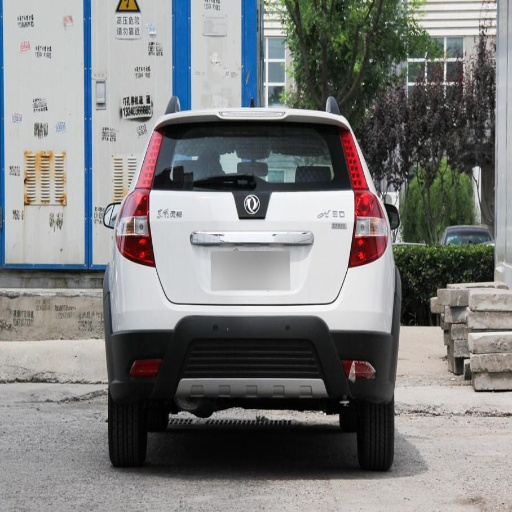back_bumper: (107, 249, 393, 407)
tailgate: (151, 186, 351, 301)
trunk: (254, 185, 355, 234), (181, 192, 247, 222)
